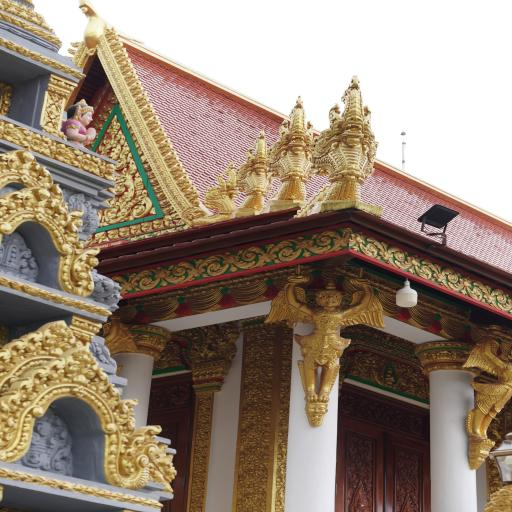ran: (312, 73, 390, 218), (265, 93, 321, 212), (228, 127, 282, 215), (196, 159, 242, 223), (183, 322, 244, 364)
than: (273, 266, 390, 430), (463, 321, 512, 470), (58, 92, 103, 156)
